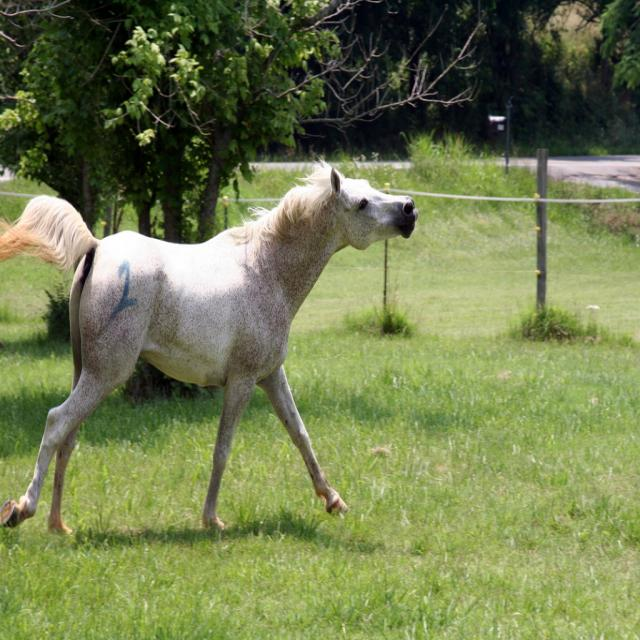Horse: (1, 156, 418, 544)
